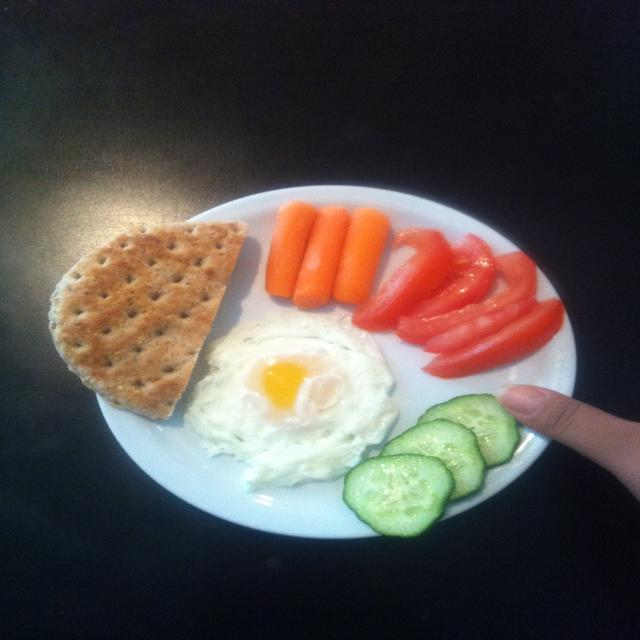carrot: (248, 198, 391, 324)
cucumber: (348, 442, 530, 547)
egg: (200, 336, 388, 434)
tomato: (403, 220, 563, 359)
waffle: (44, 218, 185, 424)
